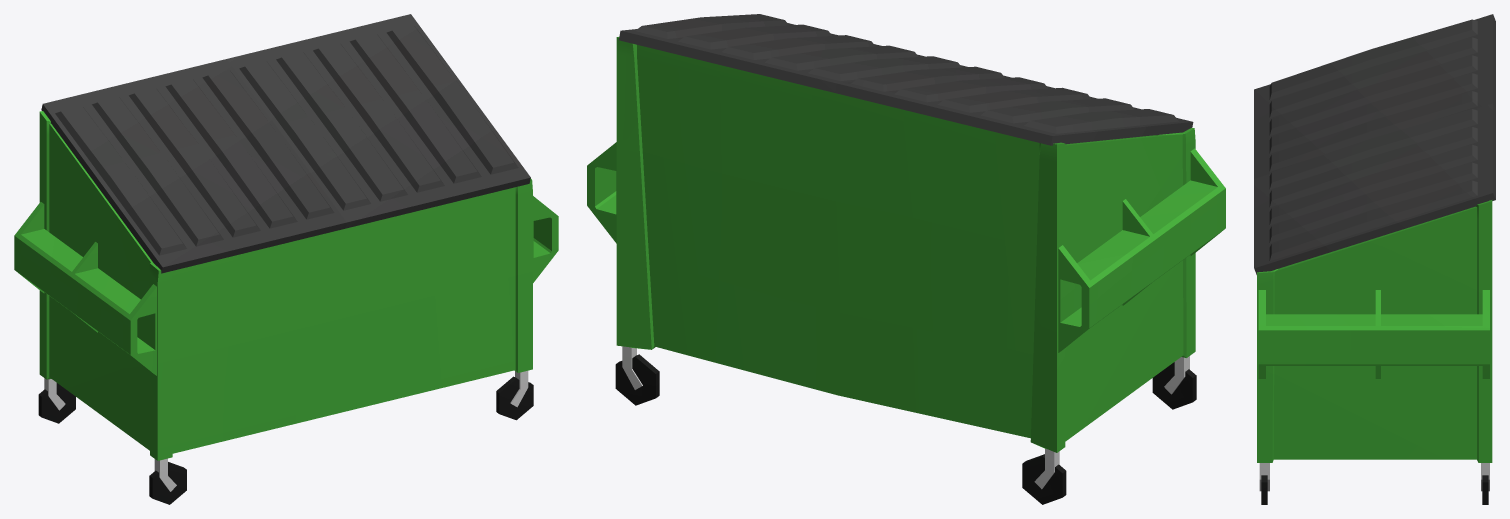
The model's file is dumpster.fbx.
3 renders of one model, left to right at view 1: azimuth 30°, elevation 25°; view 2: azimuth 150°, elevation 25°; view 3: azimuth 270°, elevation 25°, orthographic. The views are drawn at different scales.
Visible parts, largest first — view 1: dumpster; view 2: dumpster; view 3: dumpster.
Boxes of the visible parts, left/top/right/bottom form: dumpster: left=14, top=14, right=558, bottom=504; dumpster: left=587, top=14, right=1225, bottom=504; dumpster: left=1254, top=14, right=1495, bottom=504.
Size of the model in its own units: 194 by 138 by 95.53.
Materials: 1 (1 with a texture image).
